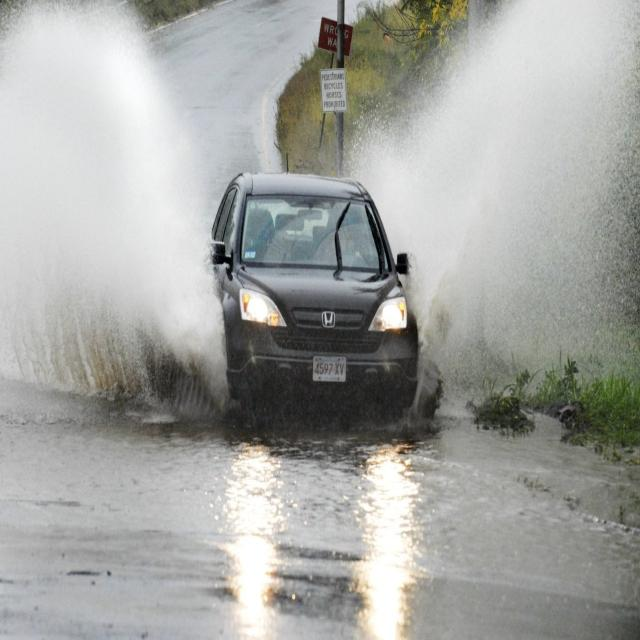car: (205, 170, 424, 418)
